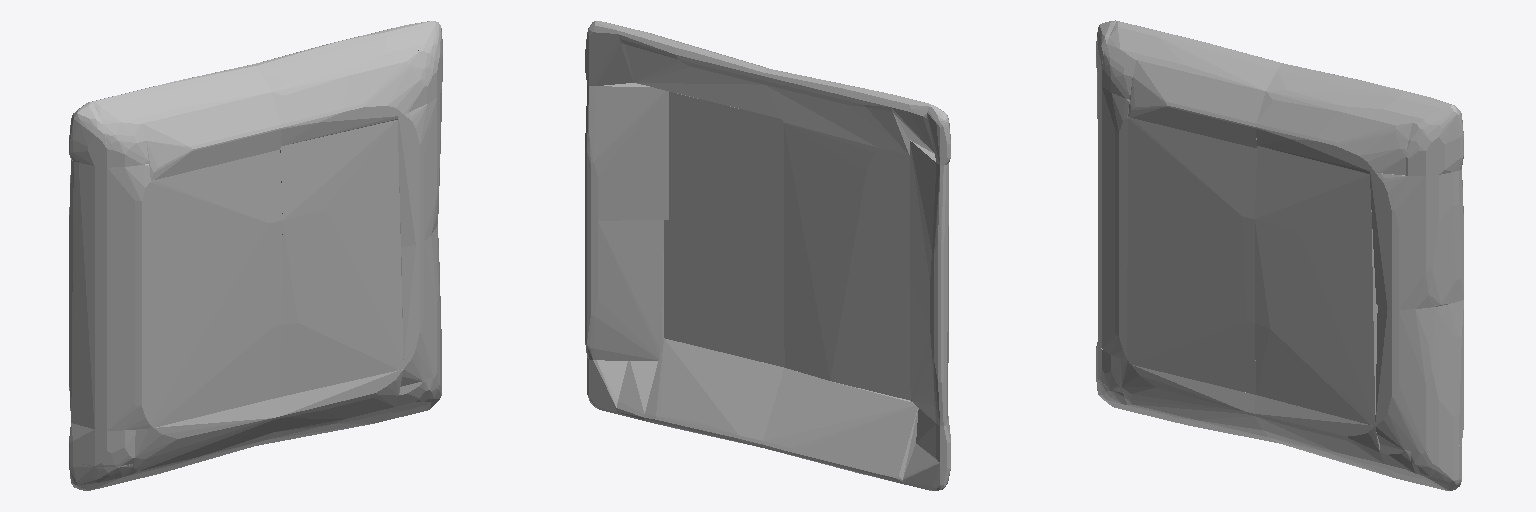
The robot description file, URDF, robot "root":
<robot name="root">
  <link name="link_coacd_convex_piece_0">
    <inertial>
      <origin xyz="0 0 0" rpy="0 0 0"/>
      <inertia ixx="5.27E-04" ixy="-8.81E-04" ixz="3.01E-05" iyy="1.91E-03" iyz="2.96E-05" izz="2.42E-03"/>
    </inertial>
    <visual>
      <origin xyz="0 0 0" rpy="0 0 0"/>
      <geometry>
        <mesh filename="coacd_convex_piece_0.obj" scale="1.0000E+00 1.0000E+00 1.0000E+00"/>
      </geometry>
      <material name="">
        <color rgba="7.50E-01 7.50E-01 7.50E-01 1"/>
      </material>
    </visual>
    <collision>
      <origin xyz="0 0 0" rpy="0 0 0"/>
      <geometry>
        <mesh filename="coacd_convex_piece_0.obj" scale="1.0000E+00 1.0000E+00 1.0000E+00"/>
      </geometry>
    </collision>
  </link>
  <link name="link_coacd_convex_piece_1">
    <inertial>
      <origin xyz="0 0 0" rpy="0 0 0"/>
      <inertia ixx="1.64E-03" ixy="-6.65E-04" ixz="1.24E-05" iyy="3.59E-04" iyz="3.26E-05" izz="1.99E-03"/>
    </inertial>
    <visual>
      <origin xyz="0 0 0" rpy="0 0 0"/>
      <geometry>
        <mesh filename="coacd_convex_piece_1.obj" scale="1.0000E+00 1.0000E+00 1.0000E+00"/>
      </geometry>
      <material name="">
        <color rgba="7.50E-01 7.50E-01 7.50E-01 1"/>
      </material>
    </visual>
    <collision>
      <origin xyz="0 0 0" rpy="0 0 0"/>
      <geometry>
        <mesh filename="coacd_convex_piece_1.obj" scale="1.0000E+00 1.0000E+00 1.0000E+00"/>
      </geometry>
    </collision>
  </link>
  <joint name="link_coacd_convex_piece_1_joint" type="fixed">
    <origin xyz="0 0 0" rpy="0 0 0"/>
    <parent link="link_coacd_convex_piece_0"/>
    <child link="link_coacd_convex_piece_1"/>
  </joint>
  <link name="link_coacd_convex_piece_2">
    <inertial>
      <origin xyz="0 0 0" rpy="0 0 0"/>
      <inertia ixx="8.19E-04" ixy="-1.70E-05" ixz="1.96E-04" iyy="8.78E-04" iyz="1.56E-05" izz="1.59E-03"/>
    </inertial>
    <visual>
      <origin xyz="0 0 0" rpy="0 0 0"/>
      <geometry>
        <mesh filename="coacd_convex_piece_2.obj" scale="1.0000E+00 1.0000E+00 1.0000E+00"/>
      </geometry>
      <material name="">
        <color rgba="7.50E-01 7.50E-01 7.50E-01 1"/>
      </material>
    </visual>
    <collision>
      <origin xyz="0 0 0" rpy="0 0 0"/>
      <geometry>
        <mesh filename="coacd_convex_piece_2.obj" scale="1.0000E+00 1.0000E+00 1.0000E+00"/>
      </geometry>
    </collision>
  </link>
  <joint name="link_coacd_convex_piece_2_joint" type="fixed">
    <origin xyz="0 0 0" rpy="0 0 0"/>
    <parent link="link_coacd_convex_piece_1"/>
    <child link="link_coacd_convex_piece_2"/>
  </joint>
  <link name="link_coacd_convex_piece_3">
    <inertial>
      <origin xyz="0 0 0" rpy="0 0 0"/>
      <inertia ixx="1.93E-03" ixy="8.90E-04" ixz="-1.56E-05" iyy="5.55E-04" iyz="1.91E-05" izz="2.48E-03"/>
    </inertial>
    <visual>
      <origin xyz="0 0 0" rpy="0 0 0"/>
      <geometry>
        <mesh filename="coacd_convex_piece_3.obj" scale="1.0000E+00 1.0000E+00 1.0000E+00"/>
      </geometry>
      <material name="">
        <color rgba="7.50E-01 7.50E-01 7.50E-01 1"/>
      </material>
    </visual>
    <collision>
      <origin xyz="0 0 0" rpy="0 0 0"/>
      <geometry>
        <mesh filename="coacd_convex_piece_3.obj" scale="1.0000E+00 1.0000E+00 1.0000E+00"/>
      </geometry>
    </collision>
  </link>
  <joint name="link_coacd_convex_piece_3_joint" type="fixed">
    <origin xyz="0 0 0" rpy="0 0 0"/>
    <parent link="link_coacd_convex_piece_2"/>
    <child link="link_coacd_convex_piece_3"/>
  </joint>
  <link name="link_coacd_convex_piece_4">
    <inertial>
      <origin xyz="0 0 0" rpy="0 0 0"/>
      <inertia ixx="9.09E-04" ixy="-1.53E-05" ixz="-2.30E-04" iyy="1.14E-03" iyz="1.46E-05" izz="1.96E-03"/>
    </inertial>
    <visual>
      <origin xyz="0 0 0" rpy="0 0 0"/>
      <geometry>
        <mesh filename="coacd_convex_piece_4.obj" scale="1.0000E+00 1.0000E+00 1.0000E+00"/>
      </geometry>
      <material name="">
        <color rgba="7.50E-01 7.50E-01 7.50E-01 1"/>
      </material>
    </visual>
    <collision>
      <origin xyz="0 0 0" rpy="0 0 0"/>
      <geometry>
        <mesh filename="coacd_convex_piece_4.obj" scale="1.0000E+00 1.0000E+00 1.0000E+00"/>
      </geometry>
    </collision>
  </link>
  <joint name="link_coacd_convex_piece_4_joint" type="fixed">
    <origin xyz="0 0 0" rpy="0 0 0"/>
    <parent link="link_coacd_convex_piece_3"/>
    <child link="link_coacd_convex_piece_4"/>
  </joint>
  <link name="link_coacd_convex_piece_5">
    <inertial>
      <origin xyz="0 0 0" rpy="0 0 0"/>
      <inertia ixx="6.19E-04" ixy="-1.70E-04" ixz="1.61E-05" iyy="3.00E-03" iyz="1.15E-05" izz="3.61E-03"/>
    </inertial>
    <visual>
      <origin xyz="0 0 0" rpy="0 0 0"/>
      <geometry>
        <mesh filename="coacd_convex_piece_5.obj" scale="1.0000E+00 1.0000E+00 1.0000E+00"/>
      </geometry>
      <material name="">
        <color rgba="7.50E-01 7.50E-01 7.50E-01 1"/>
      </material>
    </visual>
    <collision>
      <origin xyz="0 0 0" rpy="0 0 0"/>
      <geometry>
        <mesh filename="coacd_convex_piece_5.obj" scale="1.0000E+00 1.0000E+00 1.0000E+00"/>
      </geometry>
    </collision>
  </link>
  <joint name="link_coacd_convex_piece_5_joint" type="fixed">
    <origin xyz="0 0 0" rpy="0 0 0"/>
    <parent link="link_coacd_convex_piece_4"/>
    <child link="link_coacd_convex_piece_5"/>
  </joint>
  <link name="link_coacd_convex_piece_6">
    <inertial>
      <origin xyz="0 0 0" rpy="0 0 0"/>
      <inertia ixx="4.11E-04" ixy="7.38E-04" ixz="4.48E-05" iyy="1.84E-03" iyz="-2.00E-05" izz="2.23E-03"/>
    </inertial>
    <visual>
      <origin xyz="0 0 0" rpy="0 0 0"/>
      <geometry>
        <mesh filename="coacd_convex_piece_6.obj" scale="1.0000E+00 1.0000E+00 1.0000E+00"/>
      </geometry>
      <material name="">
        <color rgba="7.50E-01 7.50E-01 7.50E-01 1"/>
      </material>
    </visual>
    <collision>
      <origin xyz="0 0 0" rpy="0 0 0"/>
      <geometry>
        <mesh filename="coacd_convex_piece_6.obj" scale="1.0000E+00 1.0000E+00 1.0000E+00"/>
      </geometry>
    </collision>
  </link>
  <joint name="link_coacd_convex_piece_6_joint" type="fixed">
    <origin xyz="0 0 0" rpy="0 0 0"/>
    <parent link="link_coacd_convex_piece_5"/>
    <child link="link_coacd_convex_piece_6"/>
  </joint>
  <link name="link_coacd_convex_piece_7">
    <inertial>
      <origin xyz="0 0 0" rpy="0 0 0"/>
      <inertia ixx="3.99E-04" ixy="-3.66E-04" ixz="5.08E-06" iyy="3.36E-04" iyz="9.31E-06" izz="7.34E-04"/>
    </inertial>
    <visual>
      <origin xyz="0 0 0" rpy="0 0 0"/>
      <geometry>
        <mesh filename="coacd_convex_piece_7.obj" scale="1.0000E+00 1.0000E+00 1.0000E+00"/>
      </geometry>
      <material name="">
        <color rgba="7.50E-01 7.50E-01 7.50E-01 1"/>
      </material>
    </visual>
    <collision>
      <origin xyz="0 0 0" rpy="0 0 0"/>
      <geometry>
        <mesh filename="coacd_convex_piece_7.obj" scale="1.0000E+00 1.0000E+00 1.0000E+00"/>
      </geometry>
    </collision>
  </link>
  <joint name="link_coacd_convex_piece_7_joint" type="fixed">
    <origin xyz="0 0 0" rpy="0 0 0"/>
    <parent link="link_coacd_convex_piece_6"/>
    <child link="link_coacd_convex_piece_7"/>
  </joint>
  <link name="link_coacd_convex_piece_8">
    <inertial>
      <origin xyz="0 0 0" rpy="0 0 0"/>
      <inertia ixx="2.26E-03" ixy="1.09E-03" ixz="2.02E-05" iyy="7.00E-04" iyz="-3.12E-05" izz="2.94E-03"/>
    </inertial>
    <visual>
      <origin xyz="0 0 0" rpy="0 0 0"/>
      <geometry>
        <mesh filename="coacd_convex_piece_8.obj" scale="1.0000E+00 1.0000E+00 1.0000E+00"/>
      </geometry>
      <material name="">
        <color rgba="7.50E-01 7.50E-01 7.50E-01 1"/>
      </material>
    </visual>
    <collision>
      <origin xyz="0 0 0" rpy="0 0 0"/>
      <geometry>
        <mesh filename="coacd_convex_piece_8.obj" scale="1.0000E+00 1.0000E+00 1.0000E+00"/>
      </geometry>
    </collision>
  </link>
  <joint name="link_coacd_convex_piece_8_joint" type="fixed">
    <origin xyz="0 0 0" rpy="0 0 0"/>
    <parent link="link_coacd_convex_piece_7"/>
    <child link="link_coacd_convex_piece_8"/>
  </joint>
  <link name="link_coacd_convex_piece_9">
    <inertial>
      <origin xyz="0 0 0" rpy="0 0 0"/>
      <inertia ixx="4.42E-04" ixy="4.64E-04" ixz="-1.56E-05" iyy="4.95E-04" iyz="1.55E-05" izz="9.36E-04"/>
    </inertial>
    <visual>
      <origin xyz="0 0 0" rpy="0 0 0"/>
      <geometry>
        <mesh filename="coacd_convex_piece_9.obj" scale="1.0000E+00 1.0000E+00 1.0000E+00"/>
      </geometry>
      <material name="">
        <color rgba="7.50E-01 7.50E-01 7.50E-01 1"/>
      </material>
    </visual>
    <collision>
      <origin xyz="0 0 0" rpy="0 0 0"/>
      <geometry>
        <mesh filename="coacd_convex_piece_9.obj" scale="1.0000E+00 1.0000E+00 1.0000E+00"/>
      </geometry>
    </collision>
  </link>
  <joint name="link_coacd_convex_piece_9_joint" type="fixed">
    <origin xyz="0 0 0" rpy="0 0 0"/>
    <parent link="link_coacd_convex_piece_8"/>
    <child link="link_coacd_convex_piece_9"/>
  </joint>
  <link name="link_coacd_convex_piece_10">
    <inertial>
      <origin xyz="0 0 0" rpy="0 0 0"/>
      <inertia ixx="1.92E-03" ixy="-8.12E-04" ixz="-2.03E-05" iyy="4.57E-04" iyz="-1.75E-05" izz="2.36E-03"/>
    </inertial>
    <visual>
      <origin xyz="0 0 0" rpy="0 0 0"/>
      <geometry>
        <mesh filename="coacd_convex_piece_10.obj" scale="1.0000E+00 1.0000E+00 1.0000E+00"/>
      </geometry>
      <material name="">
        <color rgba="7.50E-01 7.50E-01 7.50E-01 1"/>
      </material>
    </visual>
    <collision>
      <origin xyz="0 0 0" rpy="0 0 0"/>
      <geometry>
        <mesh filename="coacd_convex_piece_10.obj" scale="1.0000E+00 1.0000E+00 1.0000E+00"/>
      </geometry>
    </collision>
  </link>
  <joint name="link_coacd_convex_piece_10_joint" type="fixed">
    <origin xyz="0 0 0" rpy="0 0 0"/>
    <parent link="link_coacd_convex_piece_9"/>
    <child link="link_coacd_convex_piece_10"/>
  </joint>
  <link name="link_coacd_convex_piece_11">
    <inertial>
      <origin xyz="0 0 0" rpy="0 0 0"/>
      <inertia ixx="1.64E-04" ixy="-1.80E-04" ixz="1.28E-05" iyy="1.97E-04" iyz="1.27E-05" izz="3.60E-04"/>
    </inertial>
    <visual>
      <origin xyz="0 0 0" rpy="0 0 0"/>
      <geometry>
        <mesh filename="coacd_convex_piece_11.obj" scale="1.0000E+00 1.0000E+00 1.0000E+00"/>
      </geometry>
      <material name="">
        <color rgba="7.50E-01 7.50E-01 7.50E-01 1"/>
      </material>
    </visual>
    <collision>
      <origin xyz="0 0 0" rpy="0 0 0"/>
      <geometry>
        <mesh filename="coacd_convex_piece_11.obj" scale="1.0000E+00 1.0000E+00 1.0000E+00"/>
      </geometry>
    </collision>
  </link>
  <joint name="link_coacd_convex_piece_11_joint" type="fixed">
    <origin xyz="0 0 0" rpy="0 0 0"/>
    <parent link="link_coacd_convex_piece_10"/>
    <child link="link_coacd_convex_piece_11"/>
  </joint>
  <link name="link_coacd_convex_piece_12">
    <inertial>
      <origin xyz="0 0 0" rpy="0 0 0"/>
      <inertia ixx="2.77E-04" ixy="-2.88E-04" ixz="-1.26E-05" iyy="3.00E-04" iyz="-1.06E-05" izz="5.76E-04"/>
    </inertial>
    <visual>
      <origin xyz="0 0 0" rpy="0 0 0"/>
      <geometry>
        <mesh filename="coacd_convex_piece_12.obj" scale="1.0000E+00 1.0000E+00 1.0000E+00"/>
      </geometry>
      <material name="">
        <color rgba="7.50E-01 7.50E-01 7.50E-01 1"/>
      </material>
    </visual>
    <collision>
      <origin xyz="0 0 0" rpy="0 0 0"/>
      <geometry>
        <mesh filename="coacd_convex_piece_12.obj" scale="1.0000E+00 1.0000E+00 1.0000E+00"/>
      </geometry>
    </collision>
  </link>
  <joint name="link_coacd_convex_piece_12_joint" type="fixed">
    <origin xyz="0 0 0" rpy="0 0 0"/>
    <parent link="link_coacd_convex_piece_11"/>
    <child link="link_coacd_convex_piece_12"/>
  </joint>
  <link name="link_coacd_convex_piece_13">
    <inertial>
      <origin xyz="0 0 0" rpy="0 0 0"/>
      <inertia ixx="2.58E-04" ixy="-2.20E-04" ixz="-9.20E-07" iyy="1.87E-04" iyz="-4.12E-07" izz="4.45E-04"/>
    </inertial>
    <visual>
      <origin xyz="0 0 0" rpy="0 0 0"/>
      <geometry>
        <mesh filename="coacd_convex_piece_13.obj" scale="1.0000E+00 1.0000E+00 1.0000E+00"/>
      </geometry>
      <material name="">
        <color rgba="7.50E-01 7.50E-01 7.50E-01 1"/>
      </material>
    </visual>
    <collision>
      <origin xyz="0 0 0" rpy="0 0 0"/>
      <geometry>
        <mesh filename="coacd_convex_piece_13.obj" scale="1.0000E+00 1.0000E+00 1.0000E+00"/>
      </geometry>
    </collision>
  </link>
  <joint name="link_coacd_convex_piece_13_joint" type="fixed">
    <origin xyz="0 0 0" rpy="0 0 0"/>
    <parent link="link_coacd_convex_piece_12"/>
    <child link="link_coacd_convex_piece_13"/>
  </joint>
  <link name="link_coacd_convex_piece_14">
    <inertial>
      <origin xyz="0 0 0" rpy="0 0 0"/>
      <inertia ixx="2.54E-04" ixy="2.43E-04" ixz="1.51E-05" iyy="2.35E-04" iyz="-1.53E-05" izz="4.88E-04"/>
    </inertial>
    <visual>
      <origin xyz="0 0 0" rpy="0 0 0"/>
      <geometry>
        <mesh filename="coacd_convex_piece_14.obj" scale="1.0000E+00 1.0000E+00 1.0000E+00"/>
      </geometry>
      <material name="">
        <color rgba="7.50E-01 7.50E-01 7.50E-01 1"/>
      </material>
    </visual>
    <collision>
      <origin xyz="0 0 0" rpy="0 0 0"/>
      <geometry>
        <mesh filename="coacd_convex_piece_14.obj" scale="1.0000E+00 1.0000E+00 1.0000E+00"/>
      </geometry>
    </collision>
  </link>
  <joint name="link_coacd_convex_piece_14_joint" type="fixed">
    <origin xyz="0 0 0" rpy="0 0 0"/>
    <parent link="link_coacd_convex_piece_13"/>
    <child link="link_coacd_convex_piece_14"/>
  </joint>
  <link name="link_coacd_convex_piece_15">
    <inertial>
      <origin xyz="0 0 0" rpy="0 0 0"/>
      <inertia ixx="2.14E-04" ixy="2.53E-04" ixz="5.48E-06" iyy="3.04E-04" iyz="-3.29E-06" izz="5.17E-04"/>
    </inertial>
    <visual>
      <origin xyz="0 0 0" rpy="0 0 0"/>
      <geometry>
        <mesh filename="coacd_convex_piece_15.obj" scale="1.0000E+00 1.0000E+00 1.0000E+00"/>
      </geometry>
      <material name="">
        <color rgba="7.50E-01 7.50E-01 7.50E-01 1"/>
      </material>
    </visual>
    <collision>
      <origin xyz="0 0 0" rpy="0 0 0"/>
      <geometry>
        <mesh filename="coacd_convex_piece_15.obj" scale="1.0000E+00 1.0000E+00 1.0000E+00"/>
      </geometry>
    </collision>
  </link>
  <joint name="link_coacd_convex_piece_15_joint" type="fixed">
    <origin xyz="0 0 0" rpy="0 0 0"/>
    <parent link="link_coacd_convex_piece_14"/>
    <child link="link_coacd_convex_piece_15"/>
  </joint>
</robot>

--- What the picture shows (computed from the rendered views, not written in the file) ---
3 views of the same robot in one strip: view 1: azimuth 30°, elevation 25°; view 2: azimuth 150°, elevation 25°; view 3: azimuth 330°, elevation 25° (orthographic).
Robot: root — 16 links, 15 joints (15 fixed); root link link_coacd_convex_piece_0; default pose: all joints at 0.
Visible links, largest first — view 1: link_coacd_convex_piece_4, link_coacd_convex_piece_2, link_coacd_convex_piece_5, link_coacd_convex_piece_8, link_coacd_convex_piece_10, link_coacd_convex_piece_3, link_coacd_convex_piece_1, link_coacd_convex_piece_6, link_coacd_convex_piece_0, link_coacd_convex_piece_7, link_coacd_convex_piece_15, link_coacd_convex_piece_11 (+4 smaller); view 2: link_coacd_convex_piece_4, link_coacd_convex_piece_2, link_coacd_convex_piece_3, link_coacd_convex_piece_6, link_coacd_convex_piece_0, link_coacd_convex_piece_1, link_coacd_convex_piece_5, link_coacd_convex_piece_8, link_coacd_convex_piece_10, link_coacd_convex_piece_9, link_coacd_convex_piece_12, link_coacd_convex_piece_13 (+4 smaller); view 3: link_coacd_convex_piece_4, link_coacd_convex_piece_2, link_coacd_convex_piece_8, link_coacd_convex_piece_0, link_coacd_convex_piece_6, link_coacd_convex_piece_10, link_coacd_convex_piece_5, link_coacd_convex_piece_3, link_coacd_convex_piece_1, link_coacd_convex_piece_9, link_coacd_convex_piece_7, link_coacd_convex_piece_12 (+3 smaller).
Boxes of the visible links, <box> form: link_coacd_convex_piece_4: <box>149,150,282,428</box>; link_coacd_convex_piece_2: <box>279,120,403,396</box>; link_coacd_convex_piece_5: <box>69,160,150,430</box>; link_coacd_convex_piece_8: <box>255,26,424,145</box>; link_coacd_convex_piece_10: <box>128,64,281,180</box>; link_coacd_convex_piece_3: <box>118,398,281,483</box>; link_coacd_convex_piece_1: <box>256,369,403,445</box>; link_coacd_convex_piece_6: <box>398,89,441,246</box>; link_coacd_convex_piece_0: <box>401,224,441,386</box>; link_coacd_convex_piece_7: <box>92,93,148,167</box>; link_coacd_convex_piece_15: <box>69,423,135,466</box>; link_coacd_convex_piece_11: <box>69,102,106,166</box>; link_coacd_convex_piece_4: <box>784,123,910,400</box>; link_coacd_convex_piece_2: <box>664,92,784,367</box>; link_coacd_convex_piece_3: <box>762,368,918,483</box>; link_coacd_convex_piece_6: <box>585,83,668,220</box>; link_coacd_convex_piece_0: <box>585,219,663,360</box>; link_coacd_convex_piece_1: <box>644,338,783,447</box>; link_coacd_convex_piece_5: <box>910,140,948,425</box>; link_coacd_convex_piece_8: <box>619,27,781,118</box>; link_coacd_convex_piece_10: <box>763,68,909,154</box>; link_coacd_convex_piece_9: <box>585,21,633,85</box>; link_coacd_convex_piece_12: <box>587,358,627,413</box>; link_coacd_convex_piece_13: <box>616,361,657,420</box>; link_coacd_convex_piece_4: <box>1127,117,1256,394</box>; link_coacd_convex_piece_2: <box>1255,146,1377,425</box>; link_coacd_convex_piece_8: <box>1256,63,1426,175</box>; link_coacd_convex_piece_0: <box>1375,300,1463,451</box>; link_coacd_convex_piece_6: <box>1370,169,1463,309</box>; link_coacd_convex_piece_10: <box>1128,29,1282,147</box>; link_coacd_convex_piece_5: <box>1097,75,1129,362</box>; link_coacd_convex_piece_3: <box>1121,360,1279,443</box>; link_coacd_convex_piece_1: <box>1254,395,1398,478</box>; link_coacd_convex_piece_9: <box>1406,97,1463,176</box>; link_coacd_convex_piece_7: <box>1102,21,1152,99</box>; link_coacd_convex_piece_12: <box>1411,444,1461,490</box>.
Bounding box of the posed robot: 1.42 × 0.2168 × 1.42 m (x, y, z).
16 mesh visuals loaded from 16 distinct referenced files (16 OBJ).
